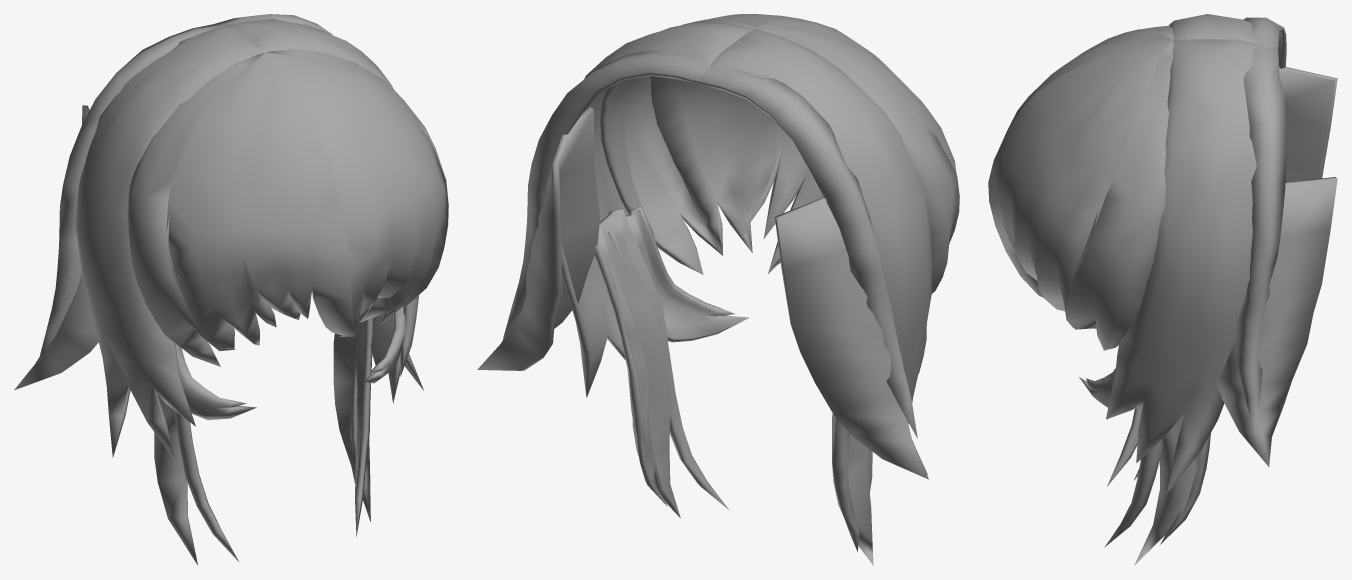
Rendered from HairFront6.fbx.
The picture shows the model from 3 angles, left to right: view 1: azimuth 30°, elevation 25°; view 2: azimuth 150°, elevation 25°; view 3: azimuth 270°, elevation 25°; orthographic projection. The views are drawn at different scales.
Parts seen in each view (by area): view 1: Front Hair_mesh; view 2: Front Hair_mesh; view 3: Front Hair_mesh.
Boxes of the visible parts, box(x1,y1,x2,y2) form: Front Hair_mesh: box(14, 14, 448, 565); Front Hair_mesh: box(477, 14, 959, 565); Front Hair_mesh: box(988, 14, 1337, 565).
Size of the model in its own units: 31.37 by 35.5 by 23.05.
Materials: 3 (3 with a texture image).
